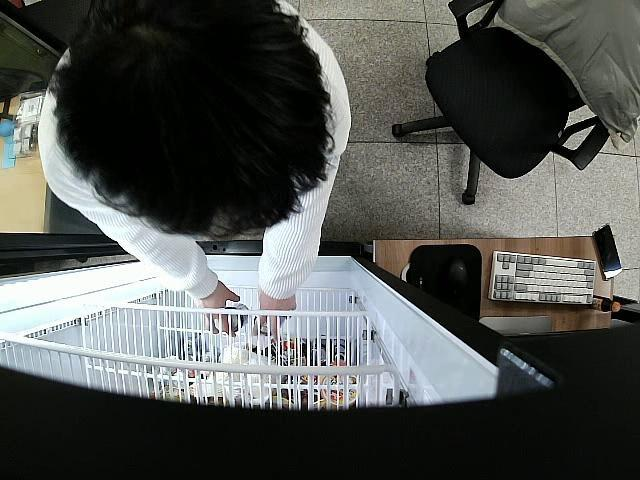14_welchsGrape: (214, 302, 248, 334)
